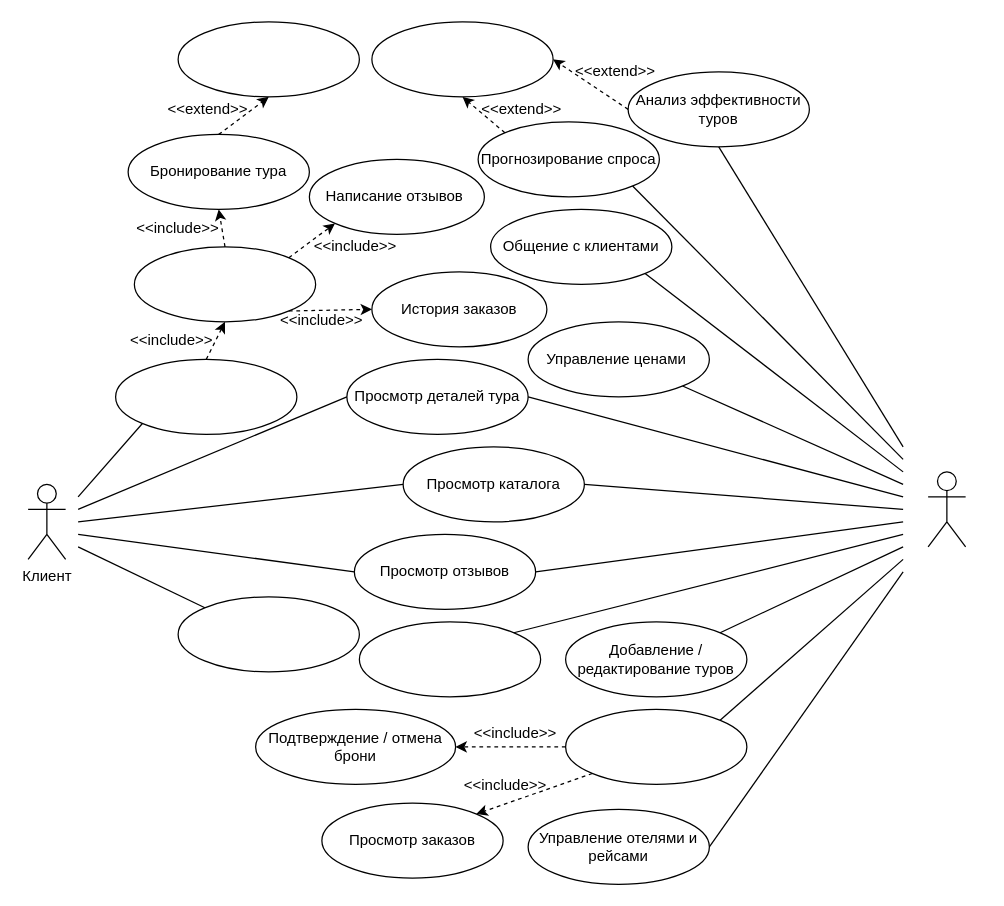
The diagram is 1004 pixels wide and 906 high, and some of its shapes have lost their labels. Here are the shapes that lost their labels. From the top down, the box of each, then its label:
(177, 21, 359, 97): Оплата онлайн
(371, 21, 553, 97): Формирование отчёта
(133, 246, 316, 322): Просмотр личного кабинета
(114, 358, 297, 434): Регистрация / Вход в систему
(927, 471, 966, 547): Менеджер
(177, 596, 359, 672): Поиск и фильтрация туров
(358, 621, 541, 697): Просмотр клиентской базы
(564, 708, 747, 784): Обработка заказов
